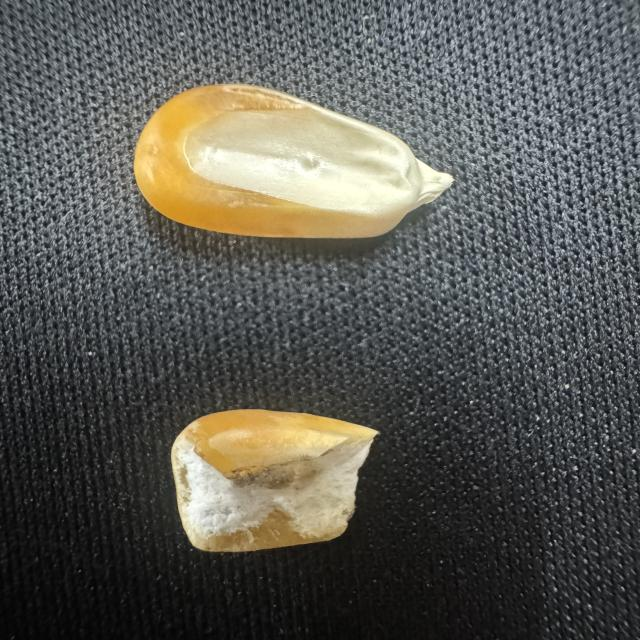Bad-Seed: (166, 405, 397, 564)
Good-Seed: (111, 75, 475, 252)
